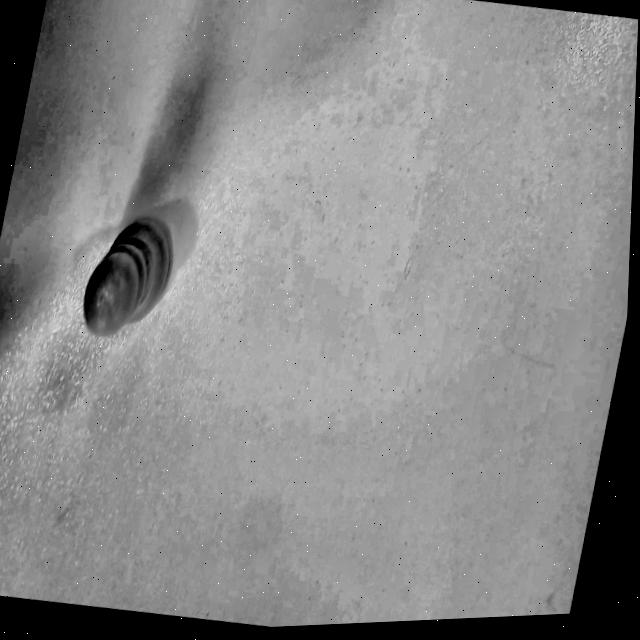white-pawn: (40, 166, 202, 379)
